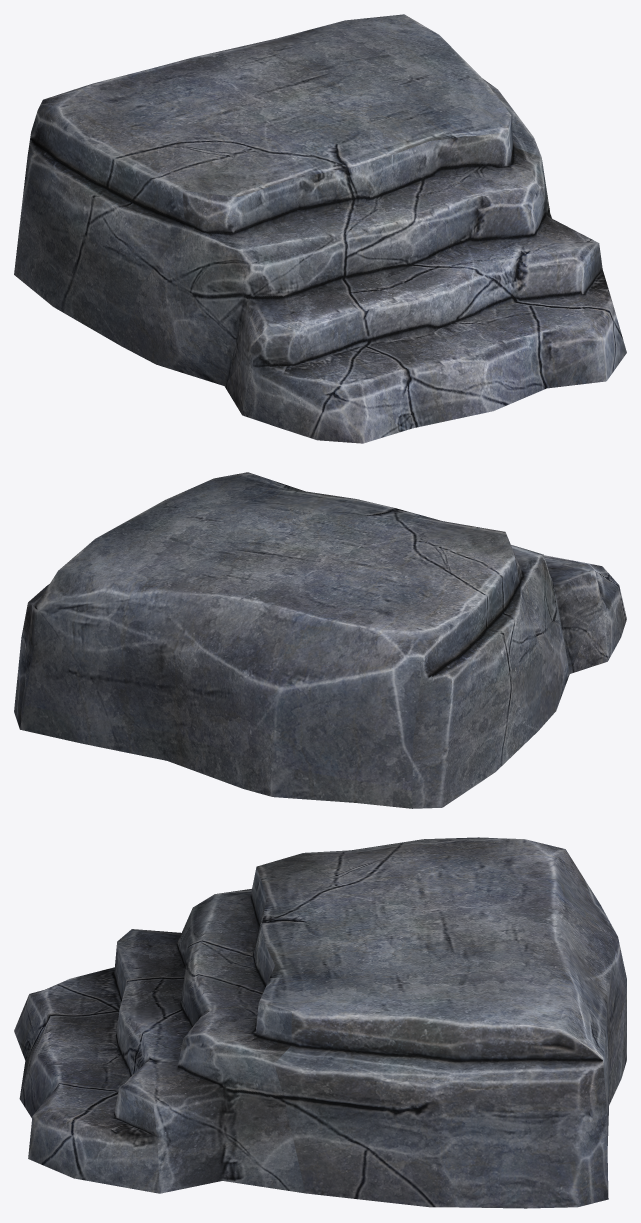
Rendered from RockStairs.FBX.
The picture shows the model from 3 angles, top to bottom: view 1: azimuth 30°, elevation 25°; view 2: azimuth 150°, elevation 25°; view 3: azimuth 270°, elevation 25°; orthographic projection. The views are drawn at different scales.
Visible parts, largest first — view 1: default; view 2: default; view 3: default.
Part boxes in pixels (x1=…): default: x1=14, y1=14, x2=626, y2=443; default: x1=14, y1=472, x2=626, y2=808; default: x1=14, y1=837, x2=626, y2=1208.
Size of the model in its own units: 1.71 by 0.6332 by 1.99.
